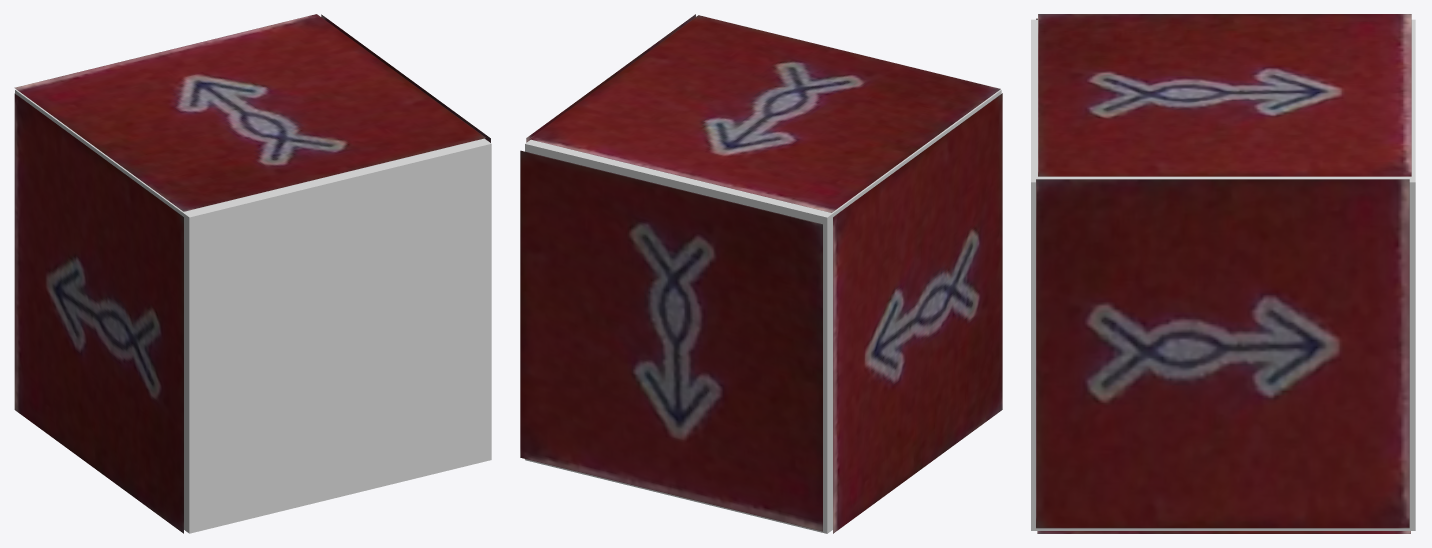
The picture shows the model from 3 angles, left to right: view 1: azimuth 30°, elevation 25°; view 2: azimuth 150°, elevation 25°; view 3: azimuth 270°, elevation 25°; orthographic projection. The views are drawn at different scales.
Parts seen in each view (by area): view 1: Link26, R1.003, R1, R1.001; view 2: R1.004, R1.003, R1, Link26, R1.001; view 3: R1.001, R1, Link26, R1.002.
Part boxes in pixels (<box>): Link26: <box>15,89,491,533</box>; R1.003: <box>14,93,183,533</box>; R1: <box>14,14,485,211</box>; R1.001: <box>321,14,490,142</box>; R1.004: <box>520,150,822,531</box>; R1.003: <box>833,93,1002,533</box>; R1: <box>529,15,1000,212</box>; Link26: <box>525,89,1001,533</box>; R1.001: <box>526,14,695,142</box>; R1.001: <box>1036,179,1409,528</box>; R1: <box>1038,14,1411,176</box>; Link26: <box>1031,19,1415,530</box>; R1.002: <box>1037,531,1410,533</box>.
Bounding box in the file's own units: 0.3579 × 0.352 × 0.356.
Materials: 1 (1 with a texture image).
